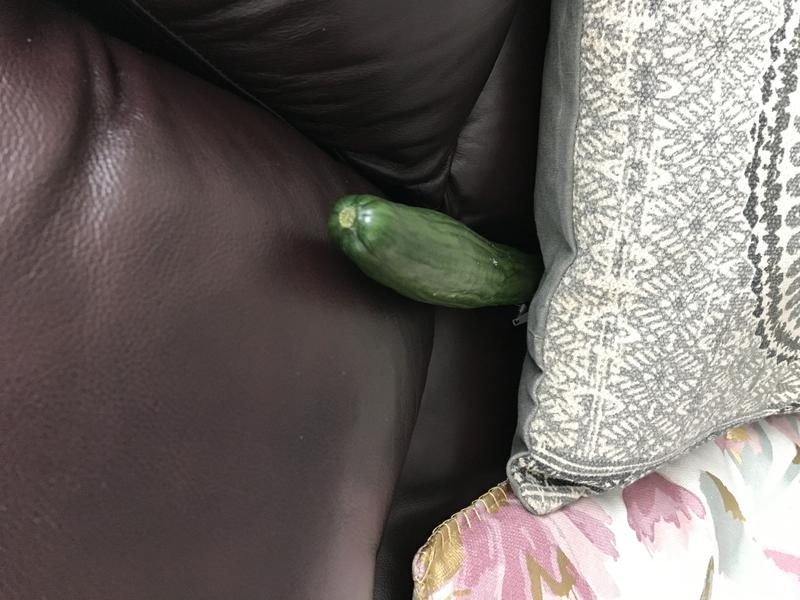cucumber: (317, 173, 553, 332)
